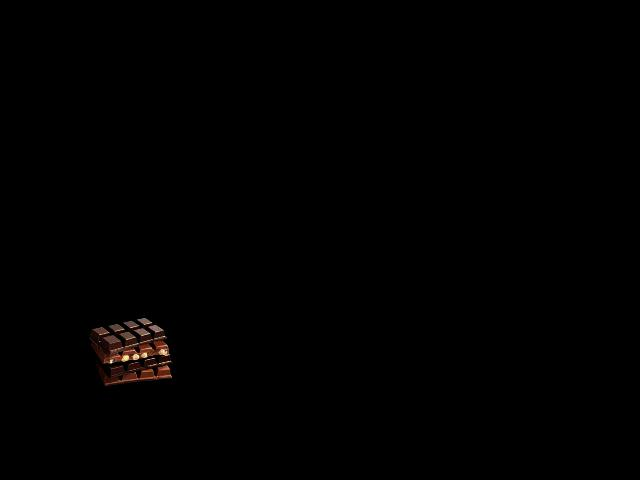chocolate: (94, 317, 171, 389)
